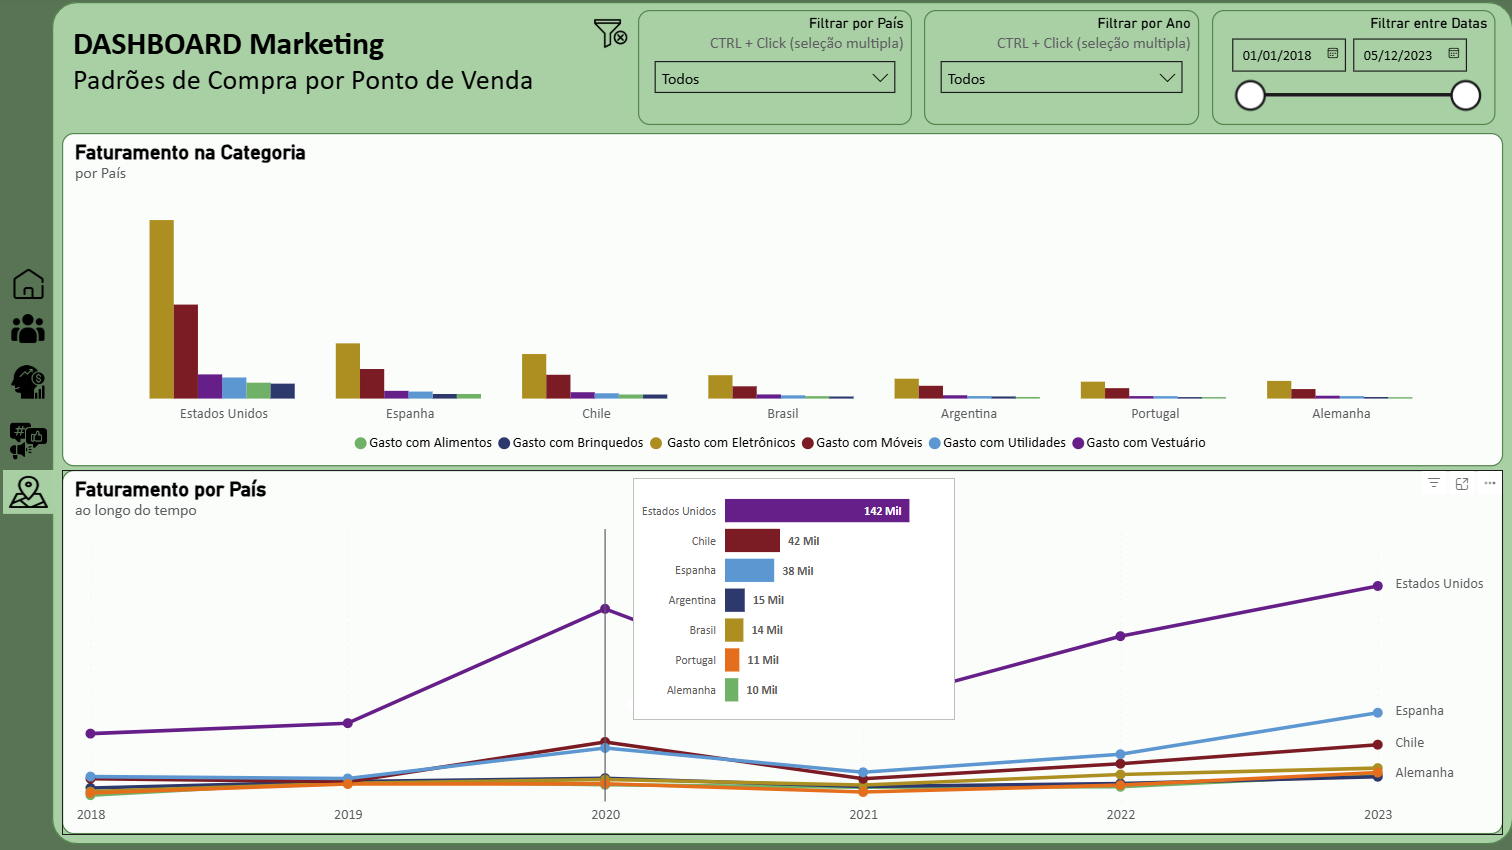

The dashboard page shown, as its layout file describes it:
{"tool":"powerbi","page":{"name":"Visão Pontos de Venda","canvas":[1280,720],"ordinal":4},"visuals":[{"type":"group","id":"g1","title":"Grupo 1","box":[48.2,4.5,1231.8,710],"z":0},{"type":"shape","box":[48.2,4.5,1231.8,710],"z":0,"group":"g1"},{"type":"textbox","box":[60.8,17.6,472.7,73.6],"z":1000,"group":"g1"},{"type":"clusteredColumnChart","title":"Faturamento na Categoria","fields":{"Category":["Dados_Marketing.Pais"],"Y":["Sum(Dados_Marketing.Gasto com Alimentos)","Sum(Dados_Marketing.Gasto com Brinquedos)","Sum(Dados_Marketing.Gasto com Eletronicos)","Sum(Dados_Marketing.Gasto com Moveis)","Sum(Dados_Marketing.Gasto com Utilidades)","Sum(Dados_Marketing.Gasto com Vestuario)"]},"box":[56.3,114.5,1215.5,280.9],"z":1000},{"type":"lineChart","title":"Faturamento por País","fields":{"Y":["Dados_Marketing.Total_Gasto"],"Category":["Dados_Marketing.Data Cadastro.Variation.Hierarquia de datas.Ano"],"Series":["Dados_Marketing.Pais"]},"box":[56.3,399.1,1215.5,307.3],"z":2000},{"type":"group","id":"g2","title":"Grupo 5","box":[7,223.6,42.7,212.7],"z":3000},{"type":"image","box":[7,398.9,42.7,37.3],"z":3000,"group":"g3"},{"type":"slicer","title":"Filtrar por Ano","fields":{"Values":["Dados_Marketing.Data Cadastro.Variation.Hierarquia de datas.Ano"]},"box":[783.7,10.9,231.8,97.3],"z":4000,"group":"g1"},{"type":"image","box":[498.9,11.9,39.8,37.8],"z":4000},{"type":"image","box":[7,260.7,42.7,38.2],"z":4000,"group":"g3"},{"type":"slicer","title":"Filtrar por País","fields":{"Values":["Dados_Marketing.Pais"]},"box":[541.8,10.9,230.9,97.3],"z":5000,"group":"g1"},{"type":"group","id":"g3","title":"Grupo 2","box":[7,260.7,42.7,175.5],"z":5000,"group":"g2"},{"type":"image","box":[7,303.4,42.7,41.8],"z":5000,"group":"g3"},{"type":"slicer","title":"Filtrar entre Datas","fields":{"Values":["Dados_Marketing.Data Cadastro"]},"box":[1026.4,10.9,239.1,97.3],"z":6000,"group":"g1"},{"type":"image","box":[7,223.6,42.6,37.2],"z":6000,"group":"g2"},{"type":"image","box":[7,349.8,42.7,48.2],"z":6000,"group":"g3"}]}

Visuals, with their boxes on the page's 1280x720 design canvas (x1, y1, x2, y2). These are canvas units, not pixel positions in the 1512x850 screenshot, which may show the page scaled, cropped or inside an application window:
"Grupo 1" group: rect(48, 4, 1280, 714)
shape: rect(48, 4, 1280, 714)
textbox: rect(61, 18, 534, 91)
"Faturamento na Categoria" clusteredColumnChart: rect(56, 114, 1272, 395)
"Faturamento por País" lineChart: rect(56, 399, 1272, 706)
"Grupo 5" group: rect(7, 224, 50, 436)
image: rect(7, 399, 50, 436)
"Filtrar por Ano" slicer: rect(784, 11, 1016, 108)
image: rect(499, 12, 539, 50)
image: rect(7, 261, 50, 299)
"Filtrar por País" slicer: rect(542, 11, 773, 108)
"Grupo 2" group: rect(7, 261, 50, 436)
image: rect(7, 303, 50, 345)
"Filtrar entre Datas" slicer: rect(1026, 11, 1266, 108)
image: rect(7, 224, 50, 261)
image: rect(7, 350, 50, 398)
